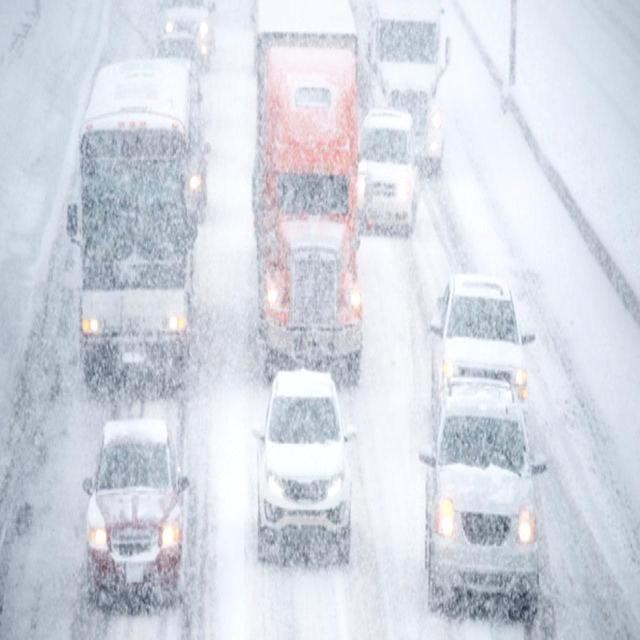Bus: (362, 0, 449, 166)
Car: (424, 388, 552, 621), (83, 406, 193, 612), (258, 368, 356, 579), (422, 270, 538, 406), (356, 103, 426, 233), (148, 0, 222, 59)
Truck: (238, 0, 368, 383), (67, 51, 199, 402)
